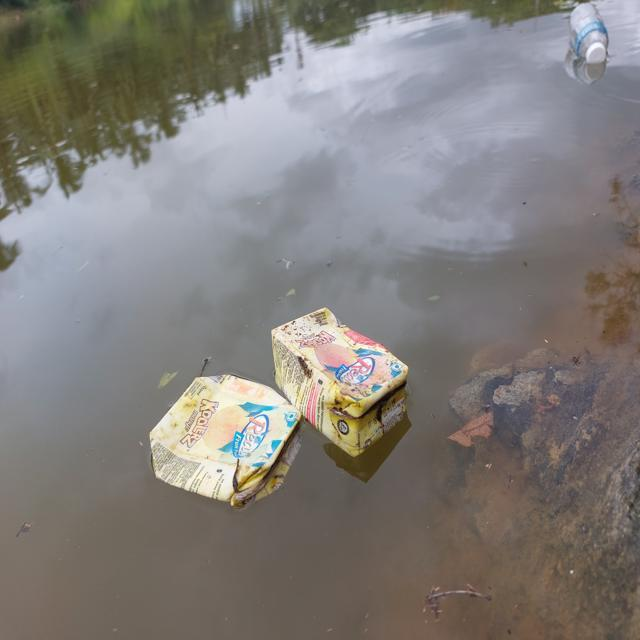paper: (138, 359, 294, 531), (269, 304, 411, 452)
waterbottle: (544, 6, 622, 73)
